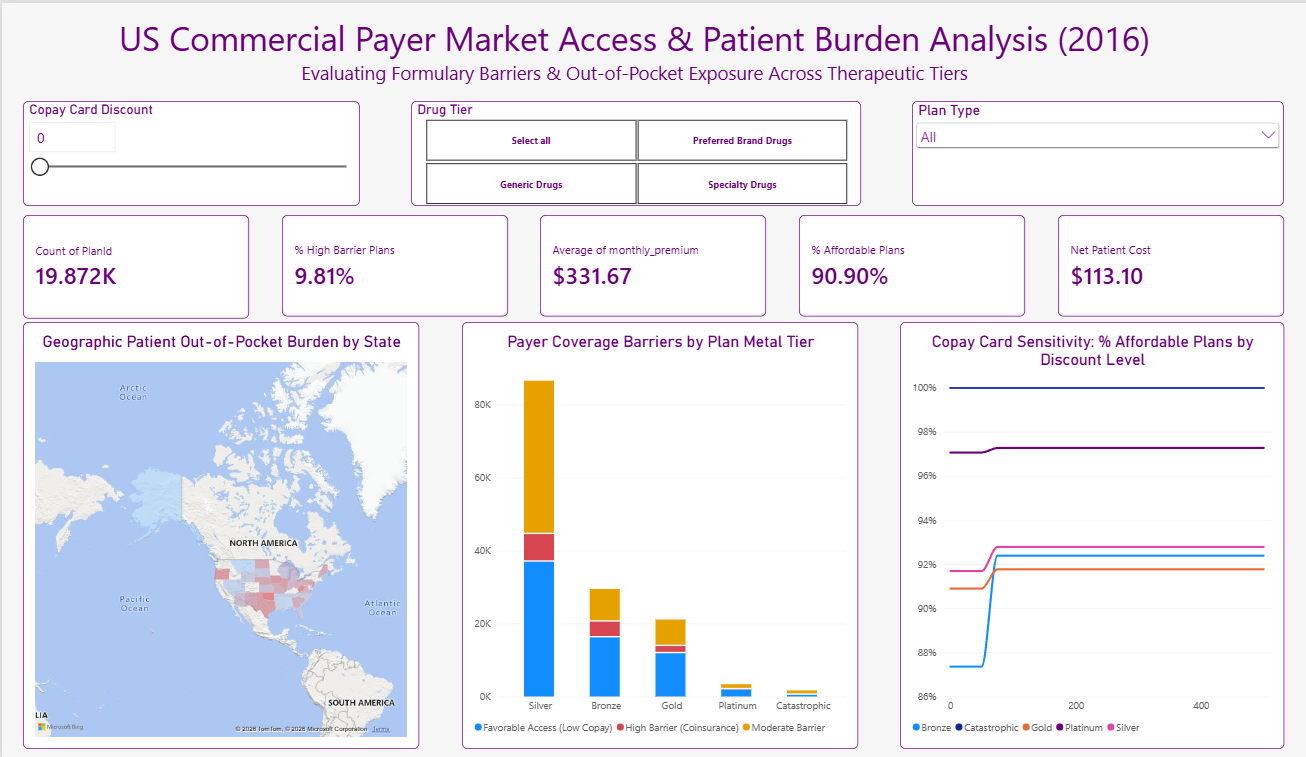

Layout of this report page (visuals, bound fields, positions):
{"tool":"powerbi","page":{"name":"Page 1","canvas":[1920,1080],"ordinal":0},"visuals":[{"type":"textbox","box":[0,17.1,1807.1,101.4],"z":0},{"type":"slicer","fields":{"Values":["iqvia_market_access.drug_tier"]},"box":[584,140,643.4,150.3],"z":1000},{"type":"slicer","fields":{"Values":["iqvia_market_access.PlanType"]},"box":[1300,140.4,531.4,150],"z":2000,"group":"g3"},{"type":"cardVisual","title":"Total Plans Analyzed","fields":{"Data":["Count(iqvia_market_access.PlanId)"]},"box":[30,303.3,322.9,147.6],"z":3000,"group":"g1"},{"type":"filledMap","title":"Geographic Patient Out-of-Pocket Burden by State","fields":{"Category":["iqvia_market_access.StateCode"]},"box":[30,456.1,565.7,610],"z":3000,"group":"g2"},{"type":"cardVisual","title":"Avg Monthly Premium","fields":{"Data":["Avg(iqvia_market_access.monthly_premium)"]},"box":[769.3,303.3,322.9,144.8],"z":4000,"group":"g1"},{"type":"columnChart","title":"Payer Coverage Barriers by Plan Metal Tier","fields":{"Category":["iqvia_market_access.MetalLevel"],"Series":["iqvia_market_access.access_tier"],"Y":["CountNonNull(iqvia_market_access.PlanId)"]},"box":[656.4,456.1,565.7,610],"z":4000,"group":"g2"},{"type":"slicer","fields":{"Values":["Copay Card Discount.Copay Card Discount"]},"box":[30,140.4,481.4,150],"z":5000,"group":"g3"},{"type":"cardVisual","title":"Net Patient Cost","fields":{"Data":["iqvia_market_access.% Affordable Plans"]},"box":[1138.9,303.3,322.9,144.8],"z":5000,"group":"g1"},{"type":"group","id":"g1","title":"Group 1","box":[30,303.3,1801.4,144.3],"z":6000},{"type":"cardVisual","title":"% High Barrier Plans","fields":{"Data":["iqvia_market_access.% High Barrier Plans"]},"box":[399.6,303.3,322.9,144.8],"z":6000,"group":"g1"},{"type":"lineChart","title":"Copay Card Sensitivity: % Affordable Plans by Discount Level","fields":{"Category":["Copay Card Discount.Copay Card Discount"],"Series":["iqvia_market_access.MetalLevel"],"Y":["iqvia_market_access.Simulated Affordability Curve"]},"box":[1282.9,456.1,548.6,610],"z":7000,"group":"g2"},{"type":"group","id":"g2","title":"Group 2","box":[30,456.1,1801.4,610],"z":7001},{"type":"group","id":"g3","title":"Group 3","box":[30,140.4,1801.4,150],"z":7002},{"type":"cardVisual","fields":{"Data":["iqvia_market_access.Net Patient Cost"]},"box":[1508.6,303.3,322.9,144.8],"z":9001,"group":"g1"}]}

Visuals, with their boxes in screenshot pixels (x1, y1, x2, y2), scaled from the page's 1920x1080 canvas onto the 1306x757 screenshot:
textbox: [x1=0, y1=12, x2=1229, y2=83]
slicer - iqvia_market_access.drug_tier: [x1=397, y1=98, x2=835, y2=203]
slicer - iqvia_market_access.PlanType: [x1=884, y1=98, x2=1246, y2=204]
"Total Plans Analyzed" cardVisual: [x1=20, y1=213, x2=240, y2=316]
"Geographic Patient Out-of-Pocket Burden by State" filledMap: [x1=20, y1=320, x2=405, y2=747]
"Avg Monthly Premium" cardVisual: [x1=523, y1=213, x2=743, y2=314]
"Payer Coverage Barriers by Plan Metal Tier" columnChart: [x1=446, y1=320, x2=831, y2=747]
slicer - Copay Card Discount.Copay Card Discount: [x1=20, y1=98, x2=348, y2=204]
"Net Patient Cost" cardVisual: [x1=775, y1=213, x2=994, y2=314]
"Group 1" group: [x1=20, y1=213, x2=1246, y2=314]
"% High Barrier Plans" cardVisual: [x1=272, y1=213, x2=491, y2=314]
"Copay Card Sensitivity: % Affordable Plans by Discount Level" lineChart: [x1=873, y1=320, x2=1246, y2=747]
"Group 2" group: [x1=20, y1=320, x2=1246, y2=747]
"Group 3" group: [x1=20, y1=98, x2=1246, y2=204]
cardVisual - iqvia_market_access.Net Patient Cost: [x1=1026, y1=213, x2=1246, y2=314]
